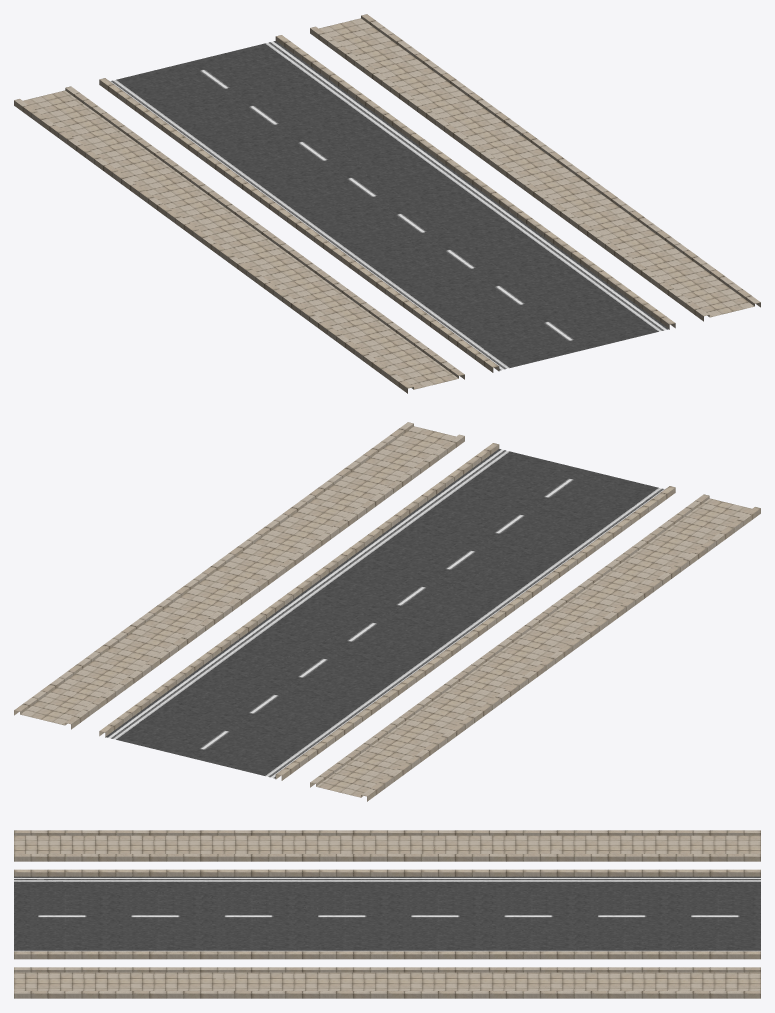
Rendered from Street1Lane40m.FBX.
3 views of the same model, one above another, from view 1: azimuth 30°, elevation 25°; view 2: azimuth 150°, elevation 25°; view 3: azimuth 270°, elevation 25° (orthographic). The views are drawn at different scales.
Parts seen in each view (by area): view 1: Street1Lane40m; view 2: Street1Lane40m; view 3: Street1Lane40m.
Part boxes in pixels (box(x1,y1,x2,y2)): Street1Lane40m: box(14, 14, 760, 393); Street1Lane40m: box(14, 422, 760, 801); Street1Lane40m: box(14, 830, 760, 998).
Bounding box in the file's own units: 20.7 × 0.3 × 40.
2 materials, 2 textured.
